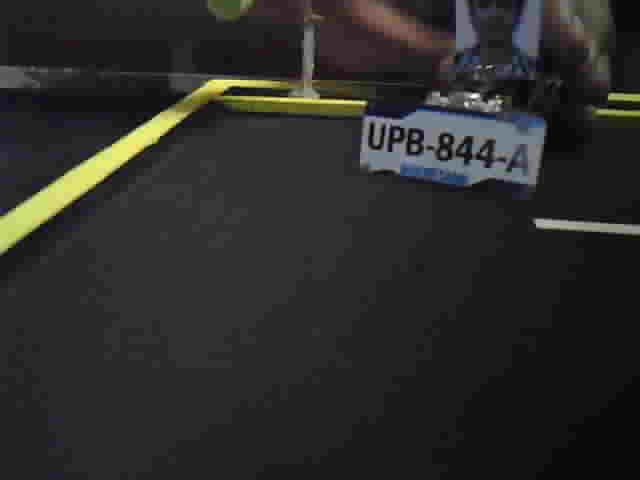PLACA: (355, 95, 552, 205)
ROSTRO: (458, 1, 536, 77)
